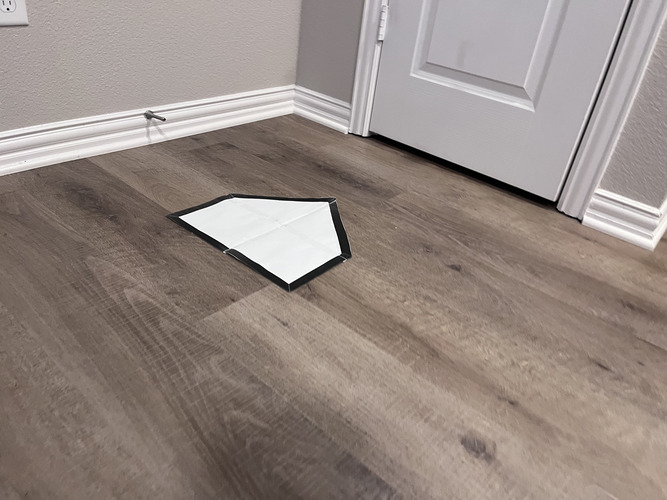homeplate: (164, 193, 351, 291)
